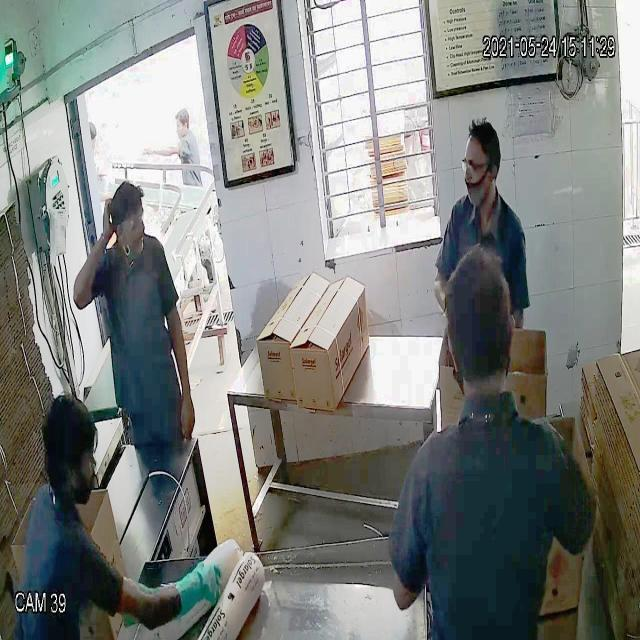glasses: (460, 150, 496, 180), (107, 210, 147, 236)
